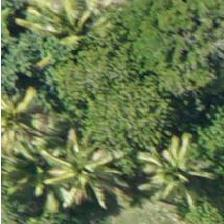Kelapa_Sawit: (34, 134, 124, 224), (132, 125, 222, 215), (24, 0, 114, 73)
